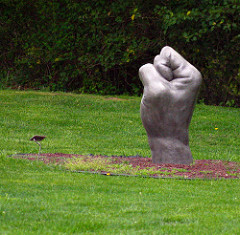fist: (136, 45, 202, 145)
